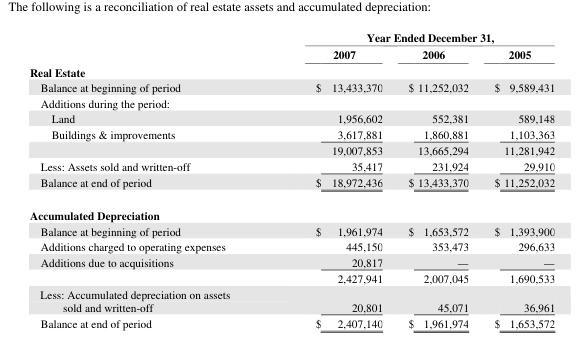table: (28, 29, 554, 330)
table column: (28, 29, 272, 330), (272, 29, 394, 330), (394, 29, 481, 330), (481, 29, 554, 330)
table column header: (28, 29, 554, 63)
table projected row header: (28, 198, 554, 222), (28, 63, 554, 79), (28, 94, 554, 110)
table row: (28, 285, 554, 314), (28, 173, 554, 198), (28, 198, 554, 222), (28, 45, 554, 63), (28, 29, 554, 45), (28, 63, 554, 79), (28, 94, 554, 110), (28, 125, 554, 141), (28, 141, 554, 157), (28, 157, 554, 173), (28, 222, 554, 238), (28, 253, 554, 269), (28, 269, 554, 285), (28, 314, 554, 330), (28, 79, 554, 94), (28, 110, 554, 125), (28, 238, 554, 253)
table spanning cell: (272, 29, 554, 45)
